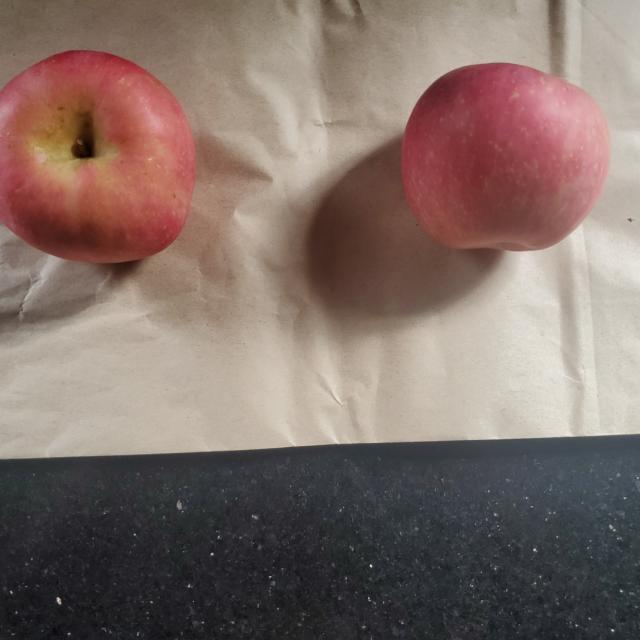apple: (3, 48, 193, 263), (404, 65, 614, 252)
